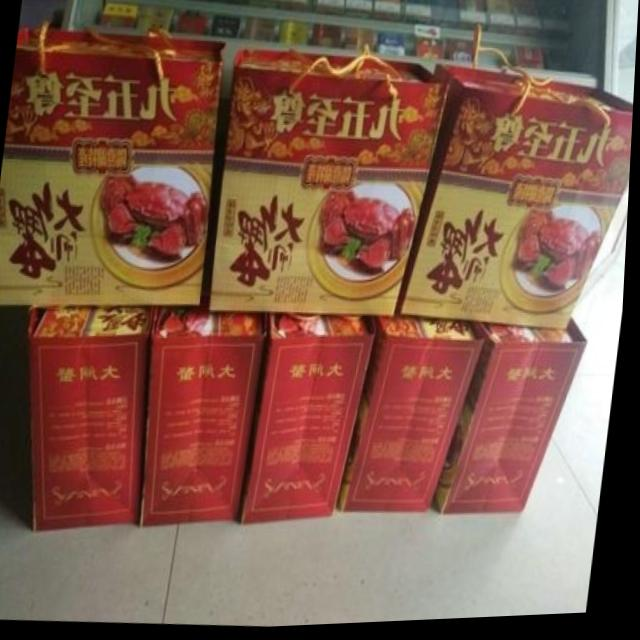box: (213, 49, 451, 322), (0, 27, 226, 307), (401, 68, 635, 333), (343, 309, 490, 516), (145, 289, 271, 528), (439, 322, 591, 517), (30, 306, 158, 533), (247, 315, 380, 527)
